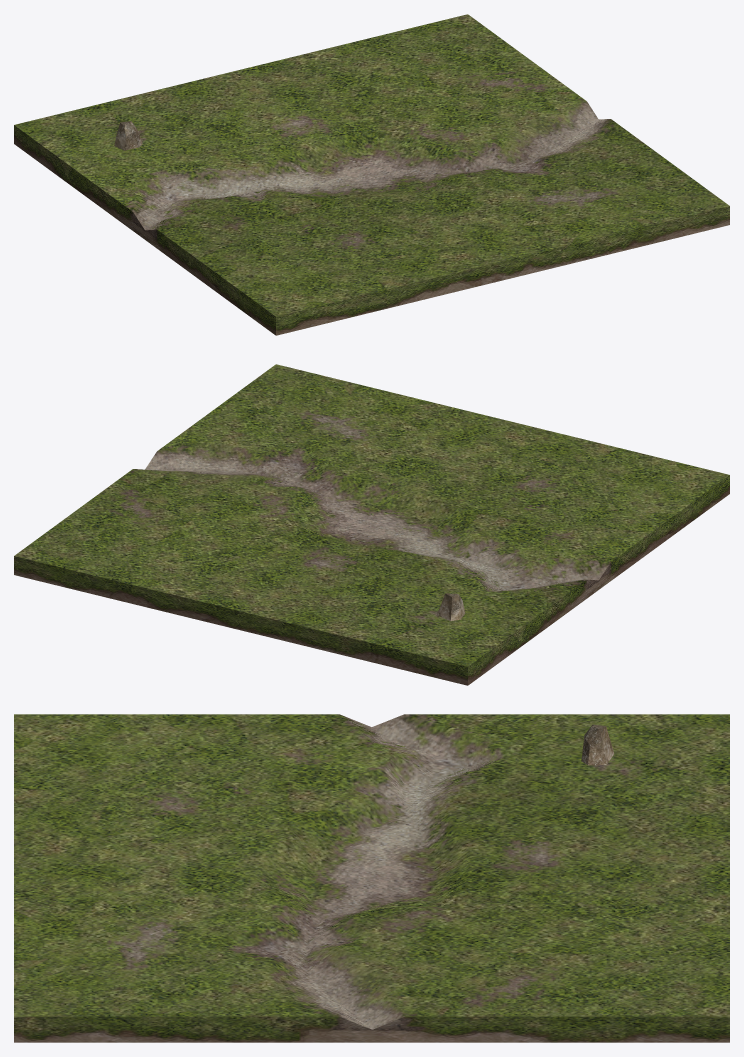
The model's file is map002.FBX.
The picture shows the model from 3 angles, top to bottom: view 1: azimuth 30°, elevation 25°; view 2: azimuth 150°, elevation 25°; view 3: azimuth 270°, elevation 25°; orthographic projection. The views are drawn at different scales.
Parts seen in each view (by area): view 1: line01, Box038; view 2: line01, Box038; view 3: line01, Box038.
Boxes of the visible parts, left/top/right/bottom form: line01: left=14, top=14, right=729, bottom=335; Box038: left=114, top=121, right=142, bottom=150; line01: left=14, top=364, right=729, bottom=685; Box038: left=437, top=593, right=465, bottom=621; line01: left=14, top=714, right=729, bottom=1042; Box038: left=581, top=724, right=614, bottom=765.
Bounding box in the file's own units: 100 × 8.54 × 100.
